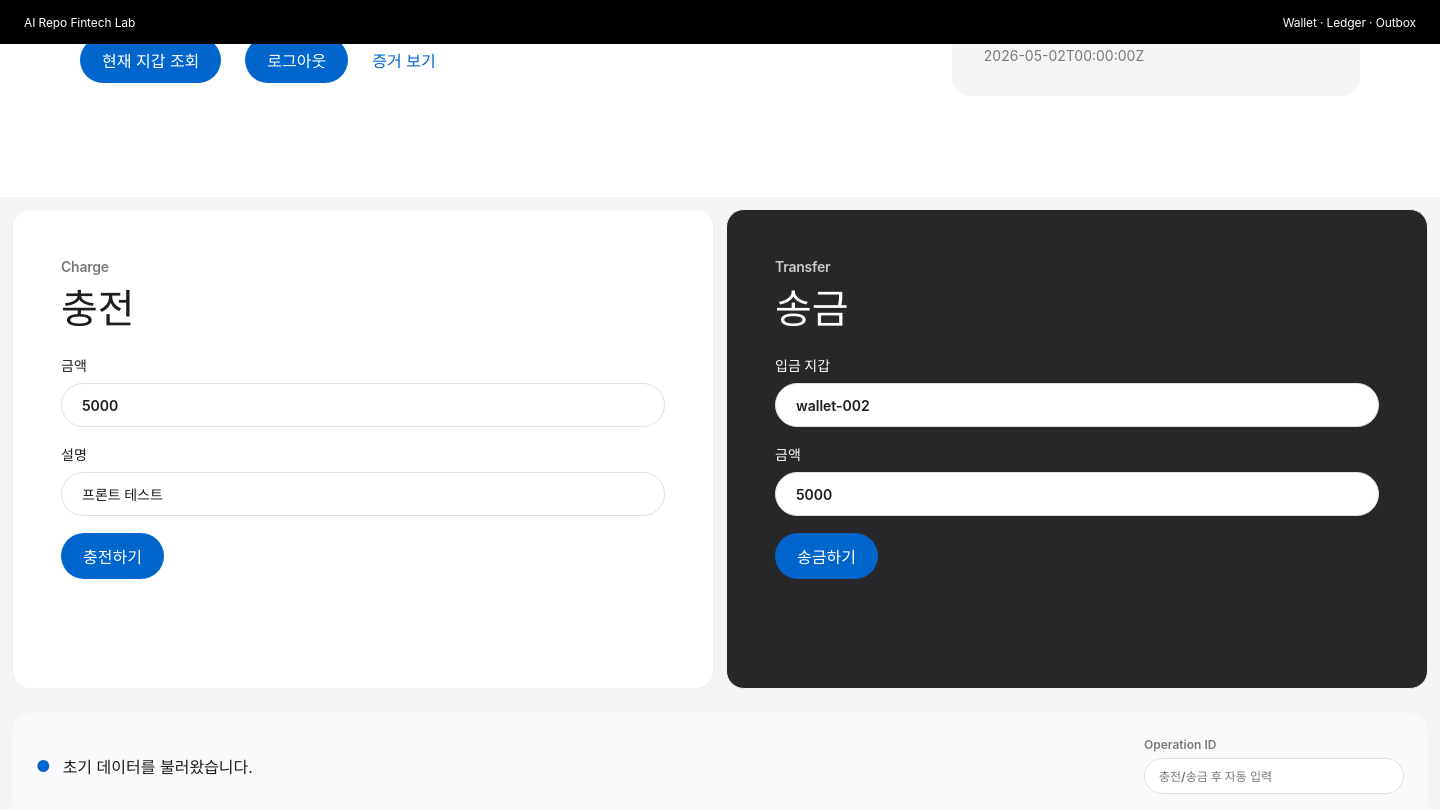
Test: App › 충전 요청 payload와 operation 증거를 갱신한다
(page scrolled)
Step 1. Replace the text in the number field named "충전 금액" with "7000" → x=363, y=405, box [61, 383, 665, 427]
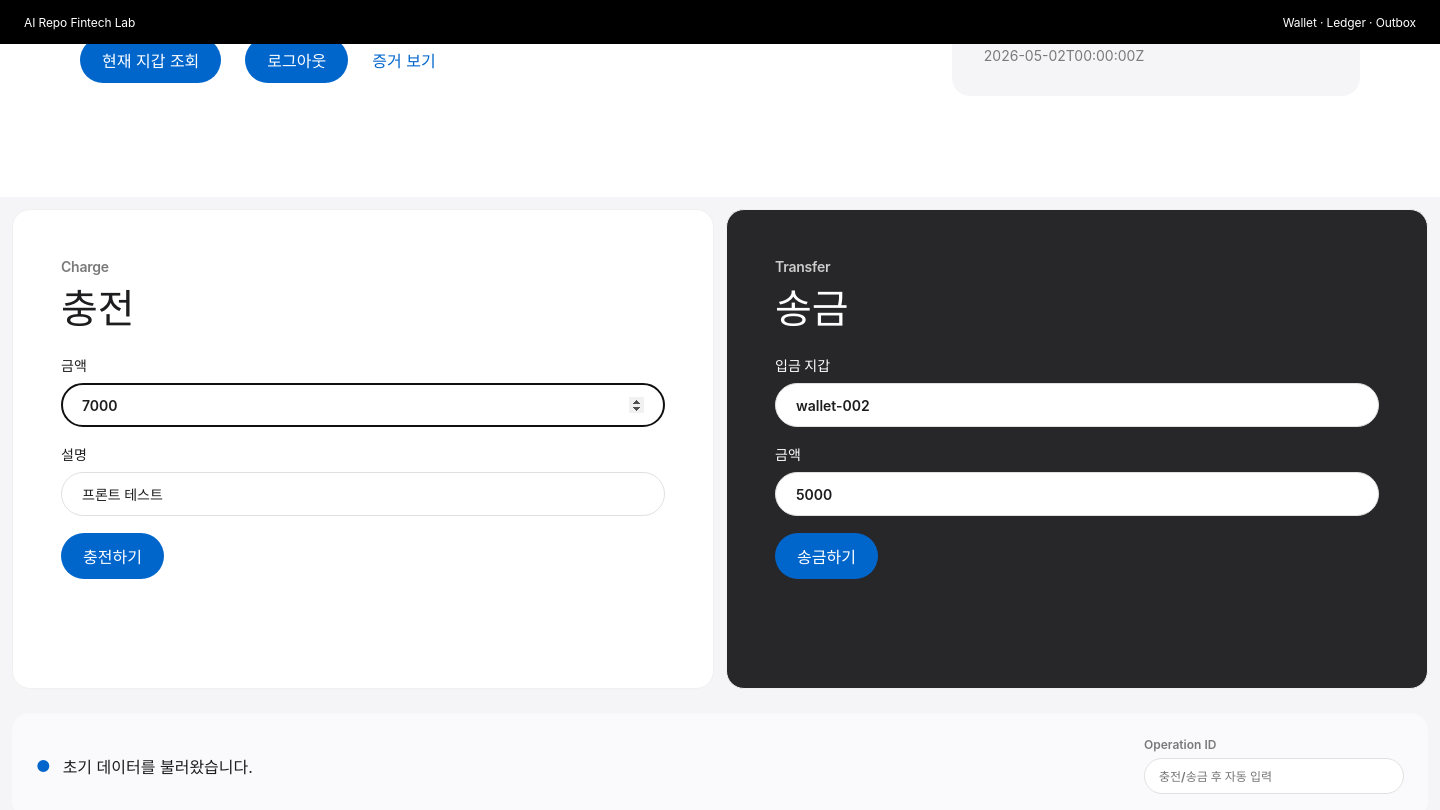
Step 2. Click the button "충전하기" → x=112, y=556, box [61, 533, 164, 579]
(page scrolled)
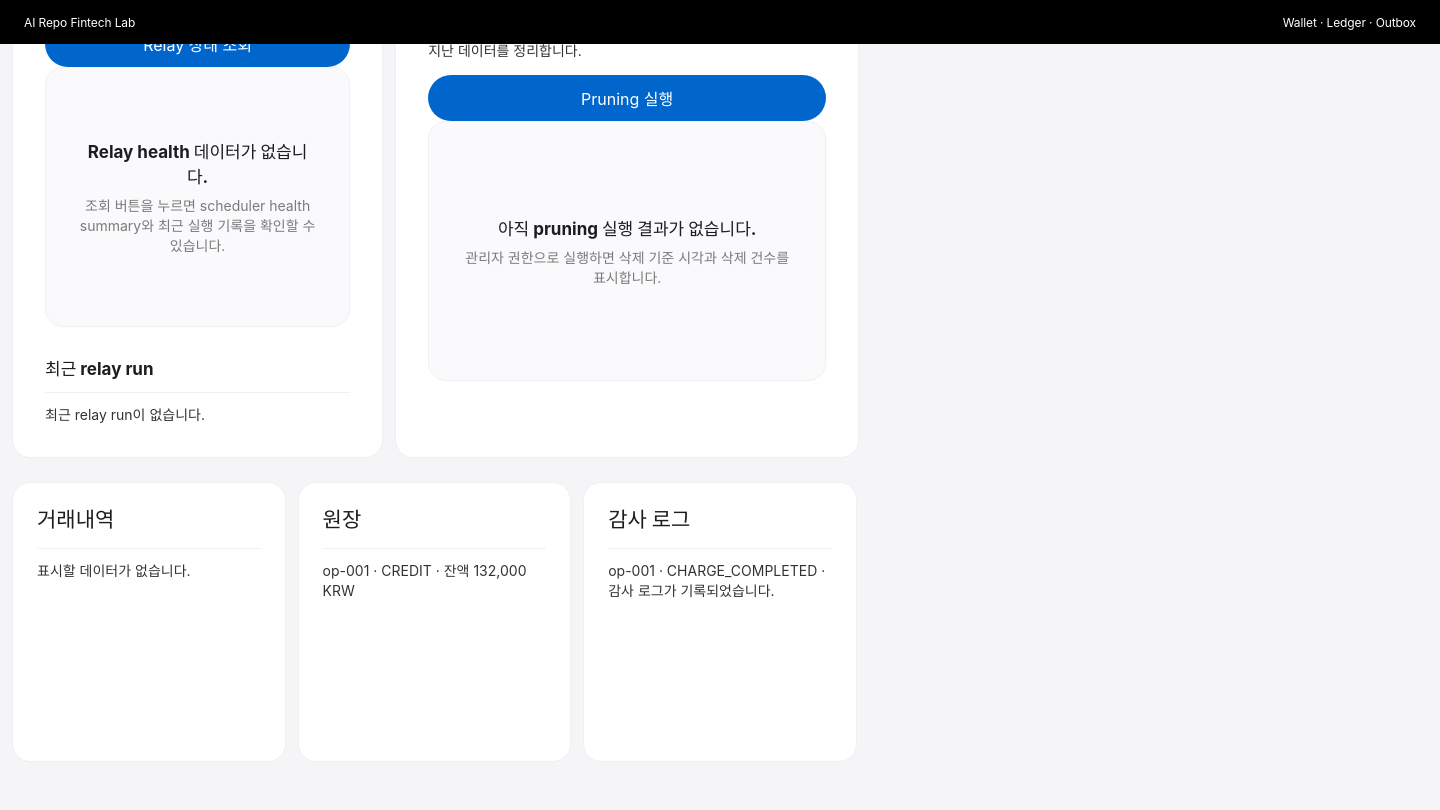
Check: the list item "op-001 · CHARGE_COMPLETED · 감사 로그가 기록되었습니다." is shown, box [608, 548, 832, 601]
